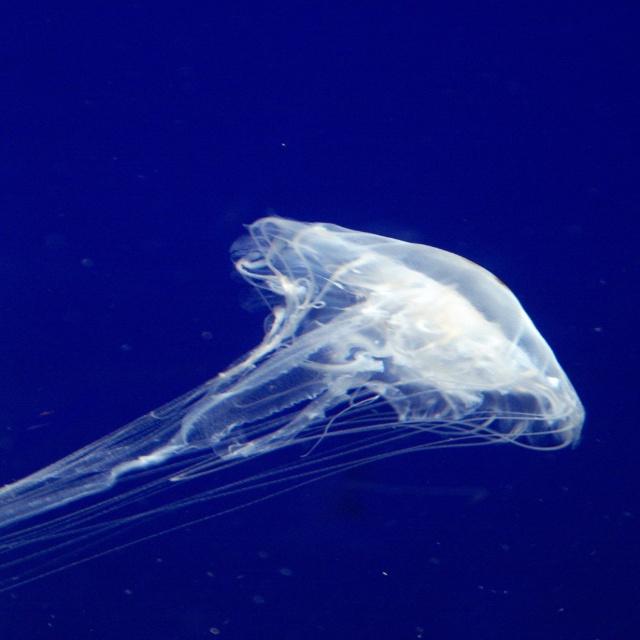Jellyfish: (43, 210, 594, 580)
